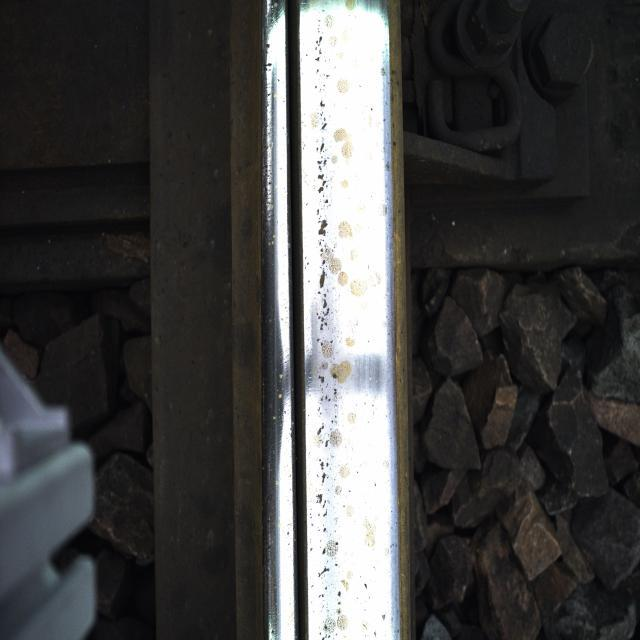scar: (313, 49, 352, 639)
